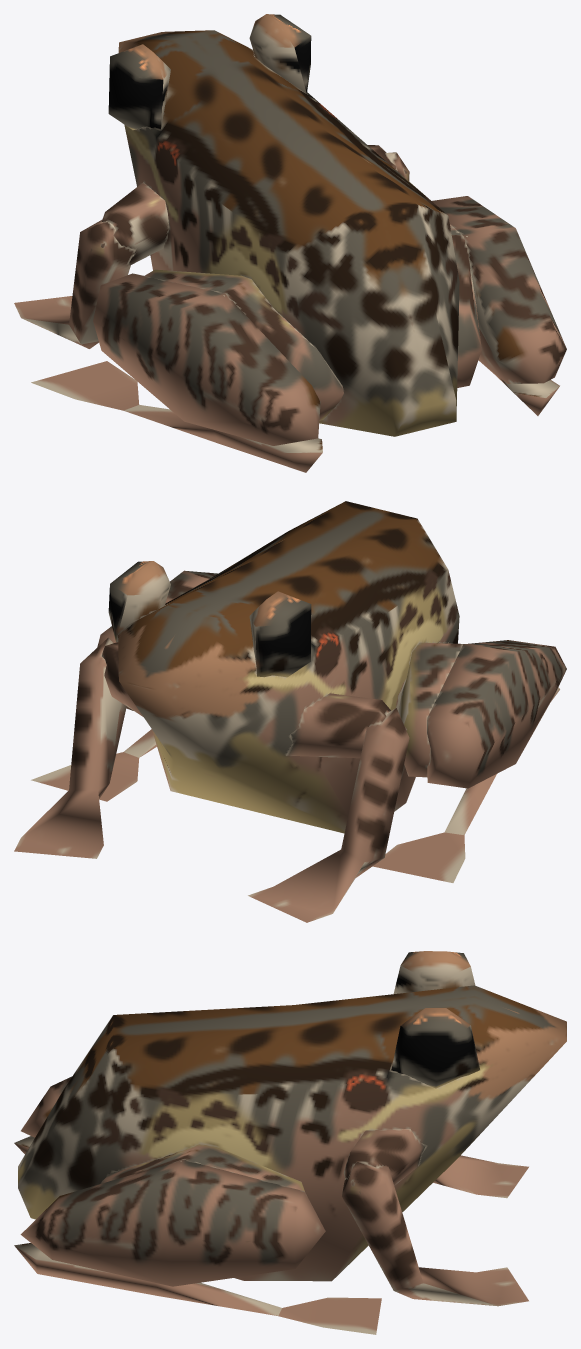
The model's file is Frog.glb.
3 views of the same model, one above another, from view 1: azimuth 30°, elevation 25°; view 2: azimuth 150°, elevation 25°; view 3: azimuth 270°, elevation 25° (orthographic). The views are drawn at different scales.
Parts seen in each view (by area): view 1: Frog; view 2: Frog; view 3: Frog.
Part boxes in pixels (x1=…): Frog: x1=14, y1=14, x2=566, y2=472; Frog: x1=14, y1=501, x2=566, y2=922; Frog: x1=14, y1=951, x2=566, y2=1334.
Size of the model in its own units: 0.8191 by 0.509 by 0.9868.
Materials: 1 (1 with a texture image).
